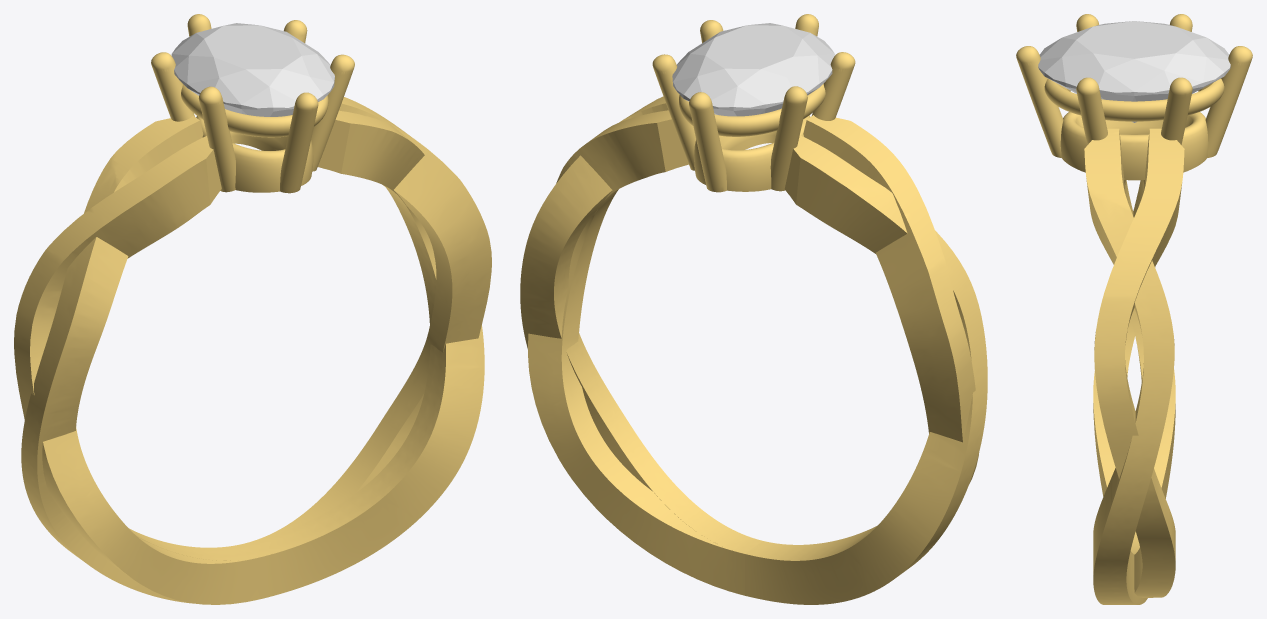
Rendered from diamond-oval-yellowgold-6prong-twist-nosidestones.glb.
3 views of the same model, side by side, from view 1: azimuth 30°, elevation 25°; view 2: azimuth 150°, elevation 25°; view 3: azimuth 270°, elevation 25° (orthographic).
Visible parts, largest first — view 1: metal.001, stone; view 2: metal.001, stone; view 3: metal.001, stone.
Part boxes in pixels (x1,y1,x2,y2): metal.001: (14, 14, 491, 604); stone: (171, 23, 334, 116); metal.001: (520, 14, 987, 604); stone: (672, 23, 834, 116); metal.001: (1016, 14, 1252, 604); stone: (1038, 21, 1230, 122).
Bounding box in the file's own units: 19.97 × 23.31 × 9.29.
